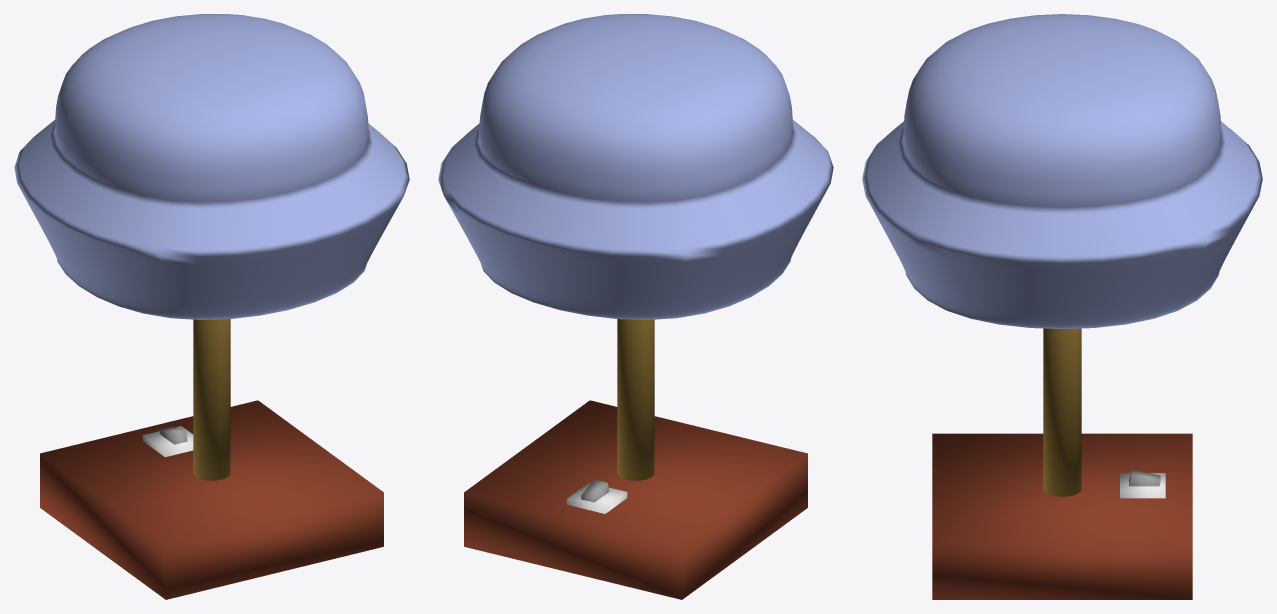
File: Lamp.glb
3 renders of one model, left to right at view 1: azimuth 30°, elevation 25°; view 2: azimuth 150°, elevation 25°; view 3: azimuth 270°, elevation 25°, orthographic. The views are drawn at different scales.
Parts seen in each view (by area): view 1: Cube, Cube.001, Cylinder, Cube.002; view 2: Cube, Cube.001, Cylinder, Cube.002; view 3: Cube, Cube.001, Cylinder, Cube.002.
Part boxes in pixels (x1=…): Cube: x1=14, y1=14, x2=409, y2=319; Cube.001: x1=40, y1=400, x2=383, y2=599; Cylinder: x1=193, y1=319, x2=230, y2=480; Cube.002: x1=143, y1=426, x2=193, y2=457; Cube: x1=438, y1=14, x2=833, y2=319; Cube.001: x1=464, y1=400, x2=807, y2=599; Cylinder: x1=617, y1=319, x2=654, y2=480; Cube.002: x1=567, y1=482, x2=627, y2=513; Cube: x1=862, y1=14, x2=1262, y2=328; Cube.001: x1=932, y1=433, x2=1192, y2=599; Cylinder: x1=1043, y1=328, x2=1081, y2=496; Cube.002: x1=1120, y1=473, x2=1165, y2=498.
Bounding box in the file's own units: 3.24 × 4.43 × 3.24.
